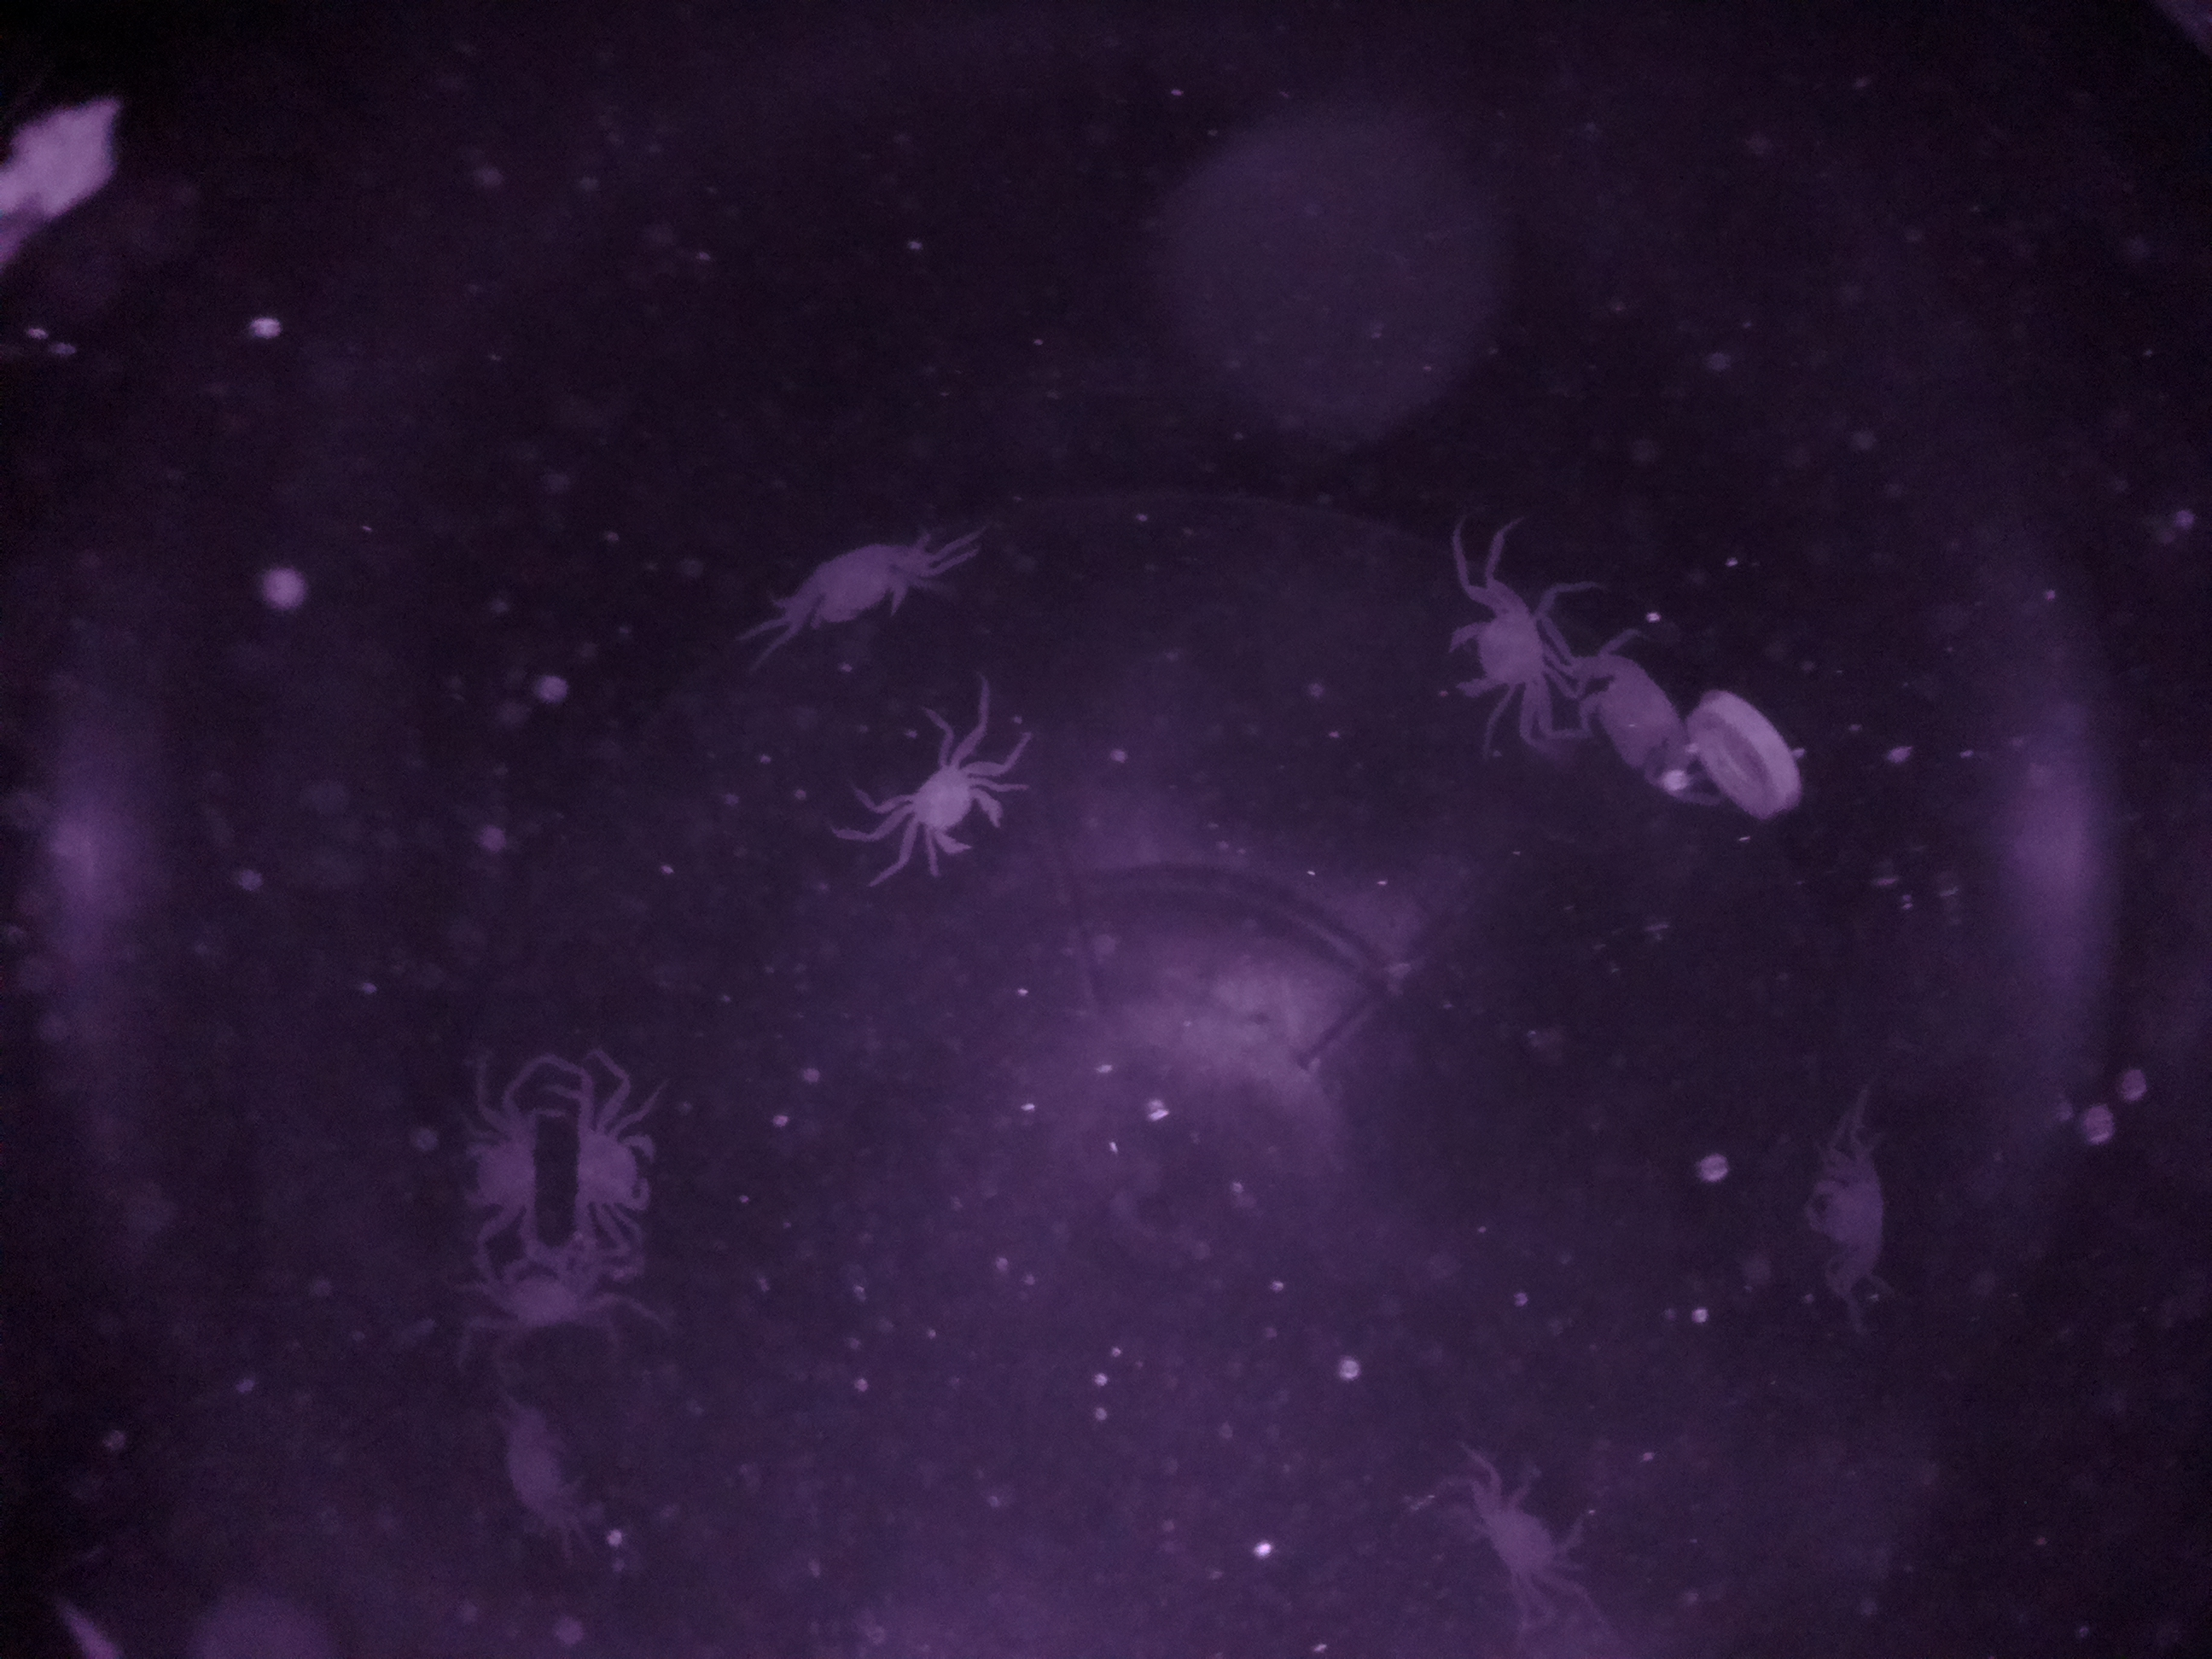Crab: (1468, 1436, 1604, 1615), (873, 721, 1021, 882), (1430, 565, 1568, 730), (559, 1068, 667, 1265), (453, 1068, 554, 1277), (780, 519, 928, 643)
